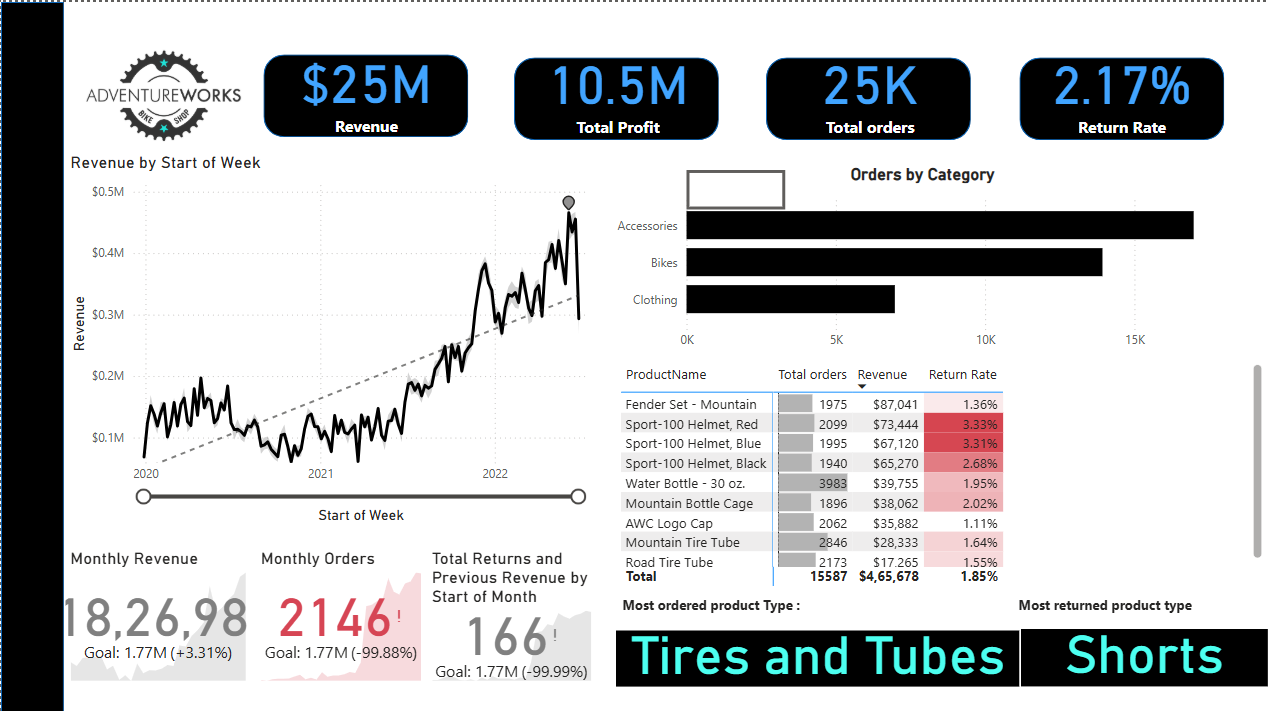

The dashboard page shown, as its layout file describes it:
{"tool":"powerbi","page":{"name":"Executive Summary","canvas":[1280,720],"ordinal":0},"visuals":[{"type":"image","box":[63.6,0,202,189.5],"z":0},{"type":"shape","box":[0,0,63.5,720.2],"z":1000},{"type":"shape","box":[518.2,56.1,207,83.5],"z":2000},{"type":"shape","box":[265.6,52.4,207,83.5],"z":3000},{"type":"card","fields":{"Values":["Measure Table.Revenue"]},"box":[249.5,8.8,237.4,155.4],"z":4000},{"type":"shape","box":[773.4,56.1,207,83.5],"z":5000},{"type":"shape","box":[1028.6,56.1,207,83.5],"z":6000},{"type":"card","fields":{"Values":["Measure Table.Total Profit"]},"box":[504.9,8.7,236.9,155.8],"z":7000},{"type":"card","fields":{"Values":["Measure Table.Return Rate"]},"box":[1013.6,8.7,236.9,155.8],"z":8000},{"type":"card","fields":{"Values":["Measure Table.Total orders"]},"box":[759.3,8.7,236.9,155.8],"z":9000},{"type":"barChart","title":"Orders by Category","fields":{"Category":["Product Categories Lookup.CategoryName"],"Y":["Measure Table.Total orders"]},"box":[611.7,164.1,637.9,195.9],"z":10000},{"type":"lineChart","fields":{"Category":["Calendar Lookup.Start of Week"],"Y":["Measure Table.Revenue"]},"box":[64.6,152.1,536.2,379.7],"z":11000},{"type":"pivotTable","fields":{"Rows":["Product Lookup.ProductName"],"Values":["Measure Table.Total orders","Measure Table.Revenue","Measure Table.Return Rate"]},"box":[621.5,360,657.6,234.2],"z":12000},{"type":"card","fields":{"Values":["Min(Product Subcategories Lookup.SubcategoryName)"]},"box":[621.5,634.7,407.1,56.9],"z":13000},{"type":"card","fields":{"Values":["Min(Product Subcategories Lookup.SubcategoryName)"]},"box":[1030.8,633.6,249.5,58],"z":14000},{"type":"textbox","box":[622.6,594.2,657.6,28.4],"z":15000},{"type":"kpi","title":"Monthly Revenue","fields":{"Indicator":["Measure Table.Revenue"],"TrendLine":["Calendar Lookup.Start of Month"],"Goal":["Measure Table.Previous Revenue"]},"box":[64.6,551.5,187.1,139],"z":16000},{"type":"kpi","title":"Monthly Orders","fields":{"Goal":["Measure Table.Previous Revenue"],"TrendLine":["Calendar Lookup.Start of Month"],"Indicator":["Measure Table.Total orders"]},"box":[258.2,551.5,171.8,139],"z":17000},{"type":"kpi","fields":{"Indicator":["Measure Table.Total Returns"],"TrendLine":["Calendar Lookup.Start of Month"],"Goal":["Measure Table.Previous Revenue"]},"box":[430,551.5,170.7,139],"z":18000},{"type":"actionButton","box":[692,169.6,99.7,39.9],"z":20000}]}

Visuals, with their boxes in screenshot pixels (x1, y1, x2, y2), scaled from the page's 1280x720 canvas onto the 1268x711 screenshot:
image: <bbox>63, 0, 263, 187</bbox>
shape: <bbox>0, 0, 63, 710</bbox>
shape: <bbox>513, 55, 718, 138</bbox>
shape: <bbox>263, 52, 468, 134</bbox>
card - Measure Table.Revenue: <bbox>247, 9, 482, 162</bbox>
shape: <bbox>766, 55, 971, 138</bbox>
shape: <bbox>1019, 55, 1224, 138</bbox>
card - Measure Table.Total Profit: <bbox>500, 9, 735, 162</bbox>
card - Measure Table.Return Rate: <bbox>1004, 9, 1239, 162</bbox>
card - Measure Table.Total orders: <bbox>752, 9, 987, 162</bbox>
"Orders by Category" barChart: <bbox>606, 162, 1238, 356</bbox>
lineChart - Calendar Lookup.Start of Week x Measure Table.Revenue: <bbox>64, 150, 595, 525</bbox>
pivotTable - Product Lookup.ProductName x Measure Table.Total orders: <bbox>616, 356, 1267, 587</bbox>
card - Min(Product Subcategories Lookup.SubcategoryName): <bbox>616, 627, 1019, 683</bbox>
card - Min(Product Subcategories Lookup.SubcategoryName): <bbox>1021, 626, 1267, 683</bbox>
textbox: <bbox>617, 587, 1267, 615</bbox>
"Monthly Revenue" kpi: <bbox>64, 545, 249, 682</bbox>
"Monthly Orders" kpi: <bbox>256, 545, 426, 682</bbox>
kpi - Measure Table.Total Returns x Calendar Lookup.Start of Month: <bbox>426, 545, 595, 682</bbox>
actionButton: <bbox>686, 167, 784, 207</bbox>
